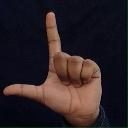hand: (2, 10, 102, 126)
